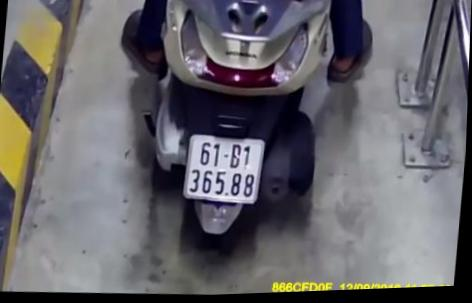LP: (179, 128, 271, 210)
